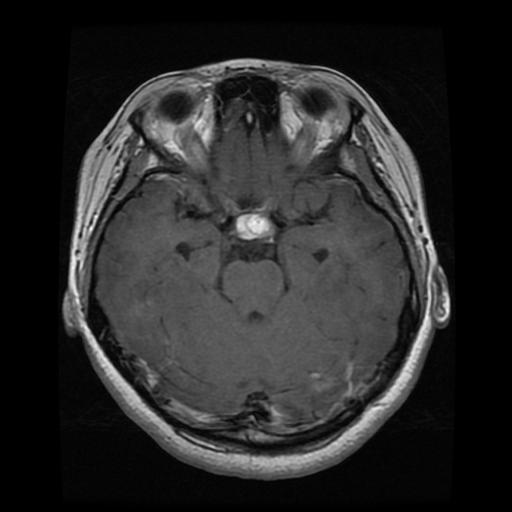Pituirity_tumour: (235, 213, 274, 238)
